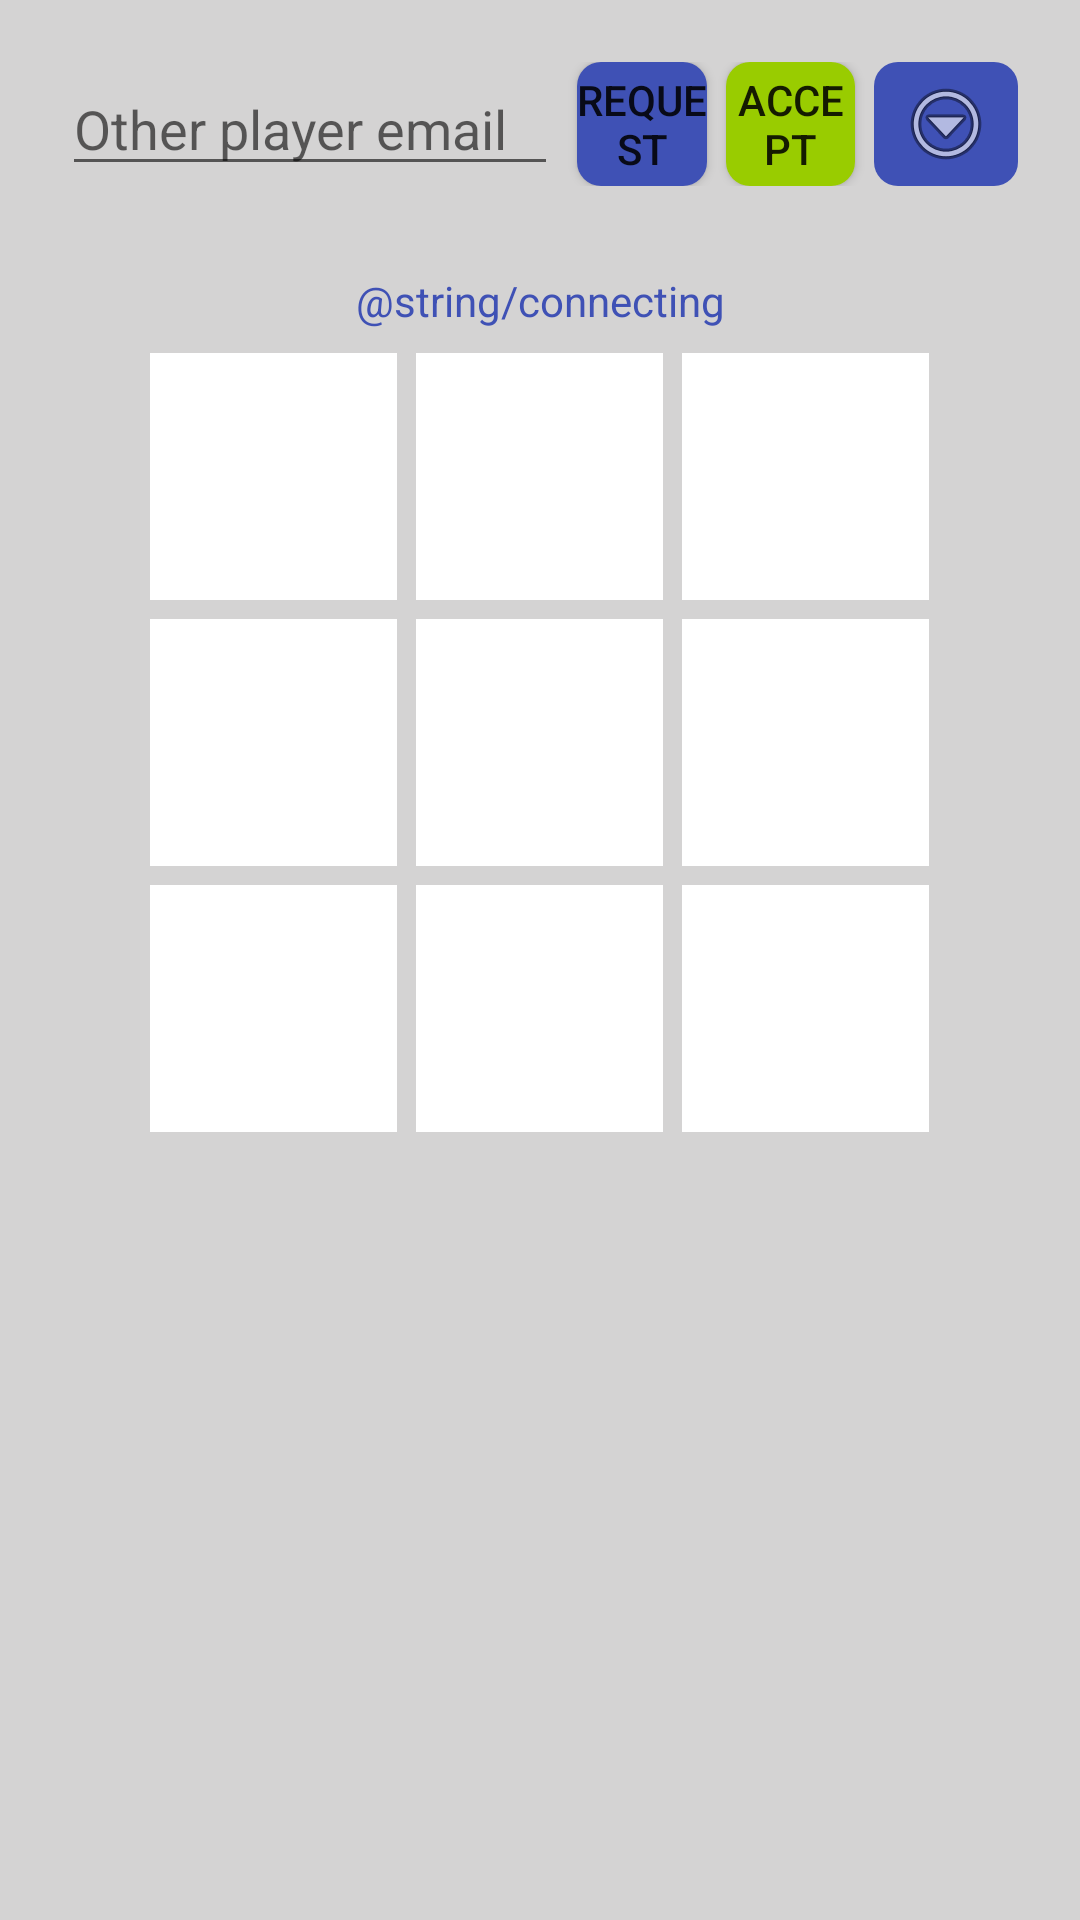

Icons on this 1080px×1920px Android screen, each with its box as {"x1": x1, "y1": y1, "x2": x2, "y2": y2}:
Меню: {"x1": 874, "y1": 62, "x2": 1018, "y2": 186}
